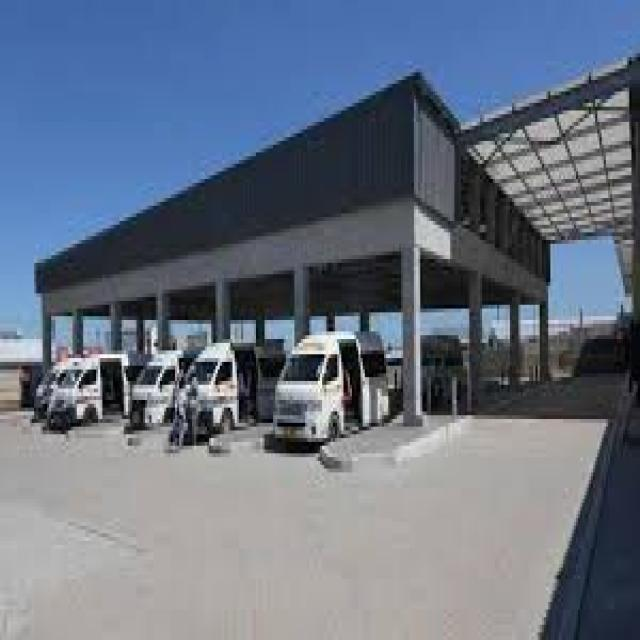MiniBus taxi: (271, 331, 392, 446), (188, 343, 282, 446)
